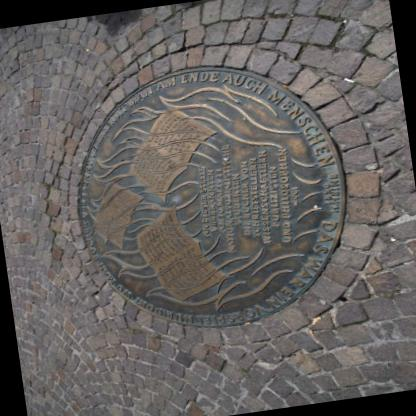manholes: (26, 14, 388, 366)
